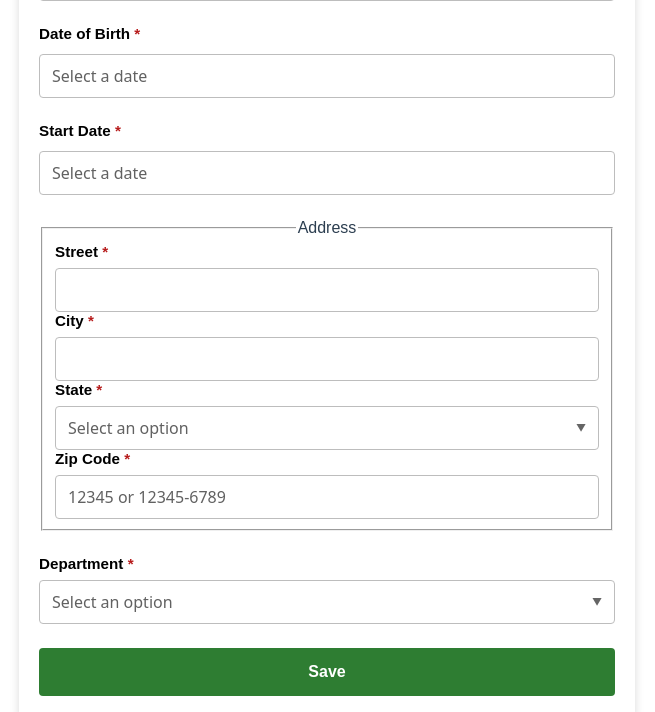
Test: EmployeeForm › Field Interactions › clears specific field error when user starts typing in that field
(page scrolled)
Note: Submit empty form
Click the button with test id "button-save" at (327, 672), box [39, 648, 615, 696]
(page scrolled)
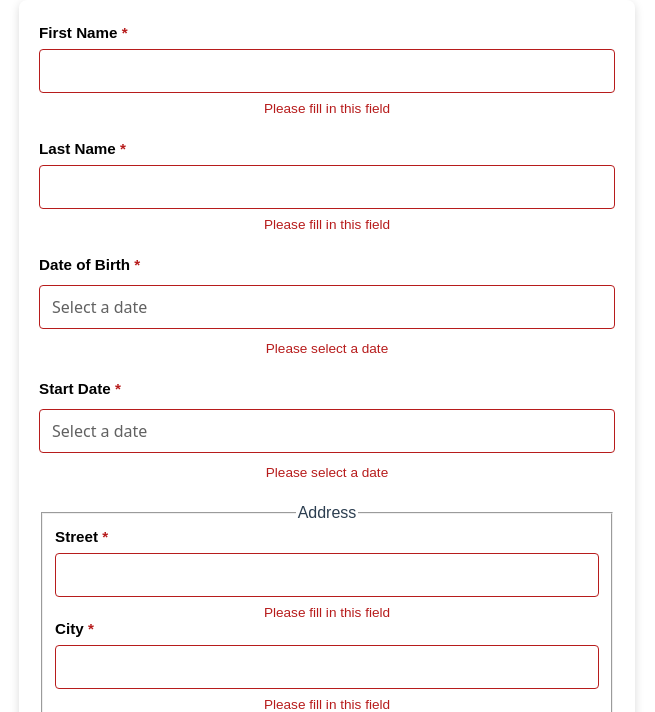
Now the text "Please fill in this field" below "First Name" is shown, box [264, 101, 390, 116]
Note: Type in firstName
Type "John" into the field labelled "First Name" at (327, 71), box [39, 49, 615, 93]
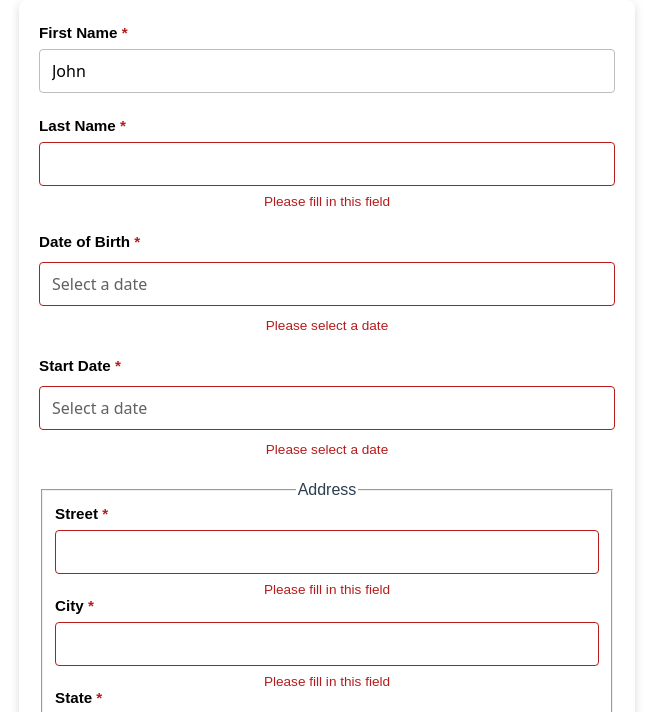
Now the message with test id "error-firstName" is gone
